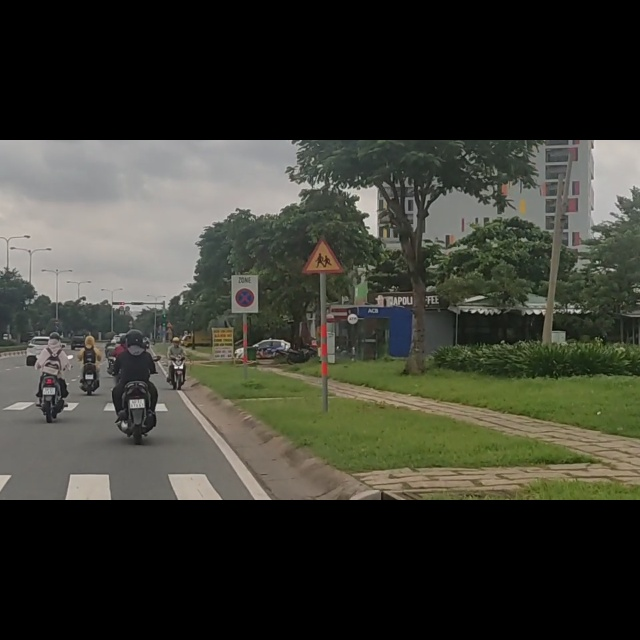bien_cam: (301, 175, 344, 238), (235, 263, 255, 299)
